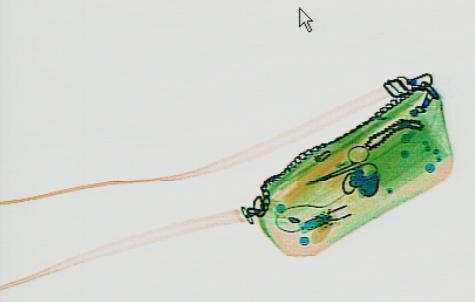Scissors: (292, 142, 392, 196)
